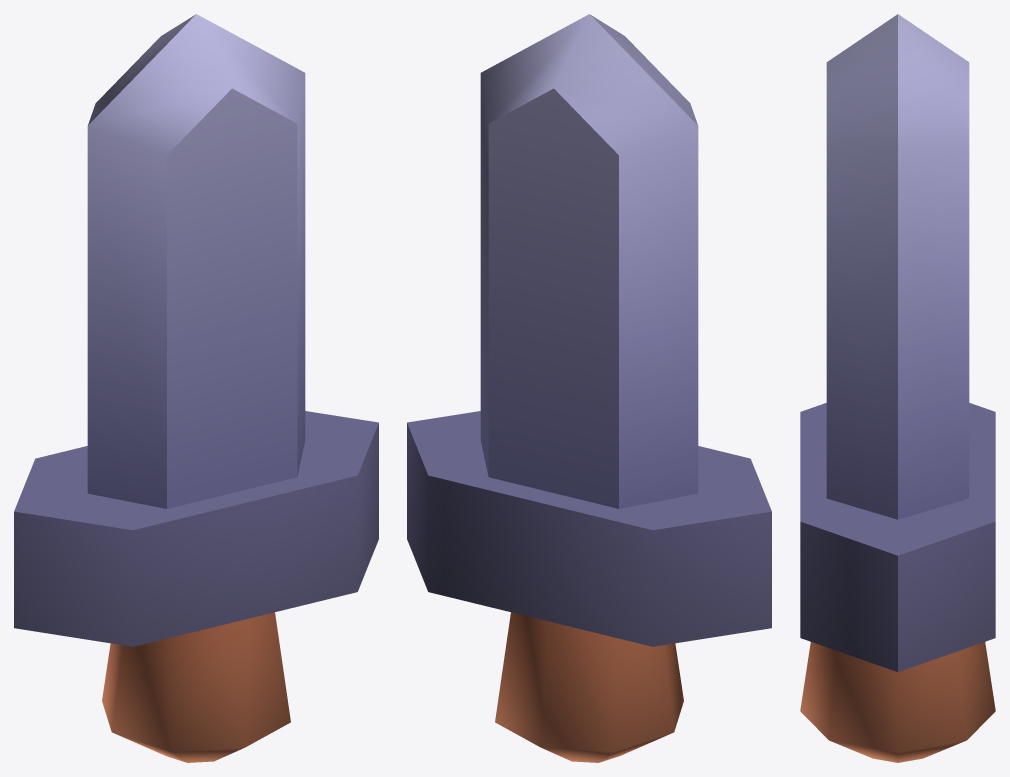
Rendered from weapon-sword.obj.
The picture shows the model from 3 angles, left to right: view 1: azimuth 30°, elevation 25°; view 2: azimuth 150°, elevation 25°; view 3: azimuth 270°, elevation 25°; orthographic projection.
Parts seen in each view (by area): view 1: weapon-sword; view 2: weapon-sword; view 3: weapon-sword.
Part boxes in pixels (x1,y1,x2,y2): weapon-sword: (14, 14, 378, 762); weapon-sword: (407, 14, 771, 762); weapon-sword: (800, 14, 995, 762).
Size of the model in its own units: 0.233 by 0.448 by 0.1082.
Materials: 1 (1 with a texture image).
